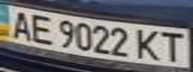0: (72, 20, 93, 52)
2: (109, 25, 133, 60), (90, 22, 112, 56)
9: (51, 17, 78, 50)
A: (3, 8, 36, 41)
E: (27, 11, 57, 45)
K: (133, 26, 163, 62)
T: (157, 29, 190, 63)
